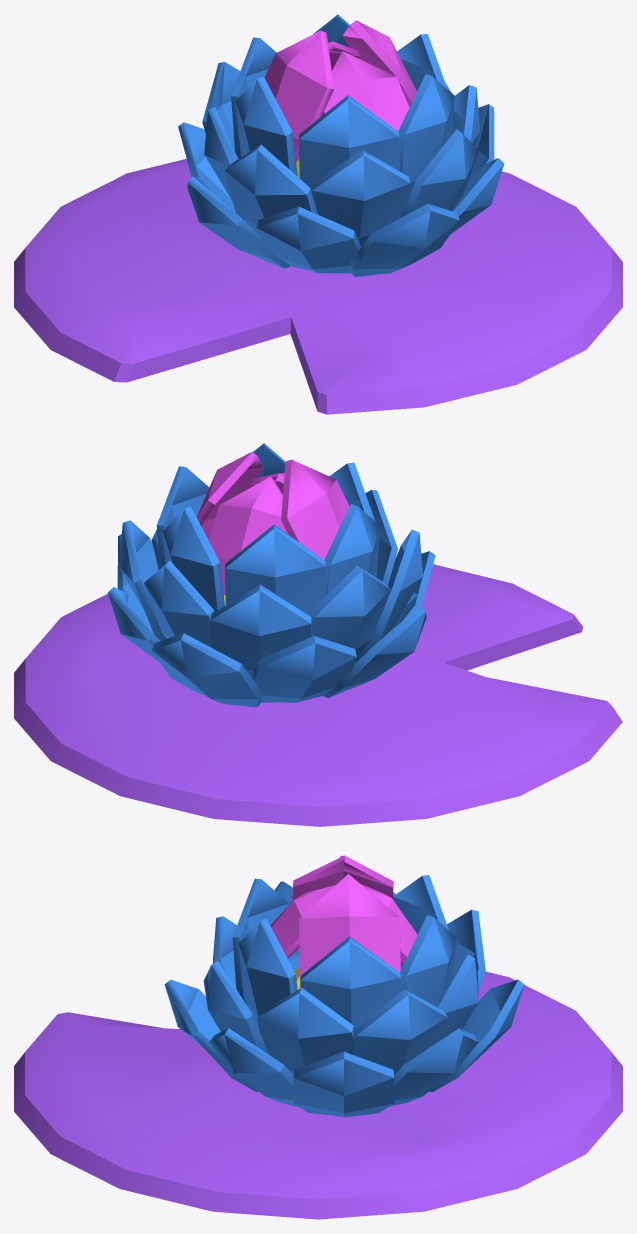
The model's file is WaterLily.fbx.
The picture shows the model from 3 angles, top to bottom: view 1: azimuth 30°, elevation 25°; view 2: azimuth 150°, elevation 25°; view 3: azimuth 270°, elevation 25°; orthographic projection.
Parts seen in each view (by area): view 1: WaterLily_LOD0; view 2: WaterLily_LOD0; view 3: WaterLily_LOD0.
Boxes of the visible parts, x1=… form: WaterLily_LOD0: x1=14, y1=14, x2=622, y2=414; WaterLily_LOD0: x1=14, y1=443, x2=622, y2=826; WaterLily_LOD0: x1=14, y1=855, x2=622, y2=1219.
Size of what is drawn, in the model's own units: 219 by 94.07 by 216.
